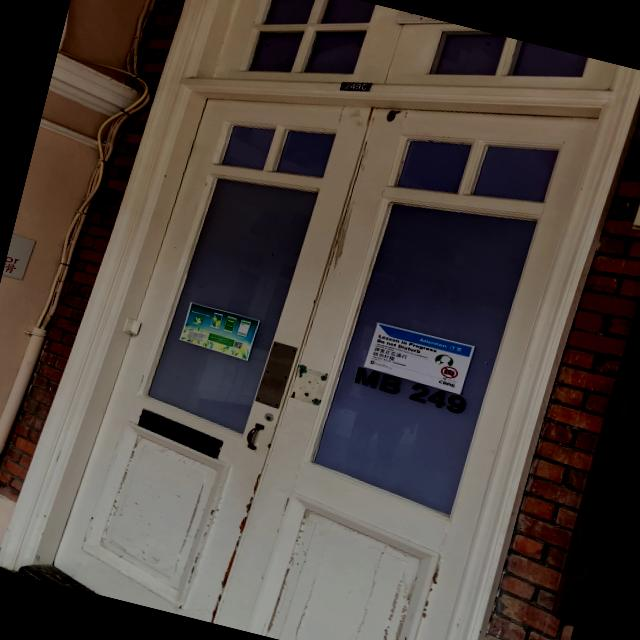room249c: (335, 73, 375, 98)
room249cWindow: (347, 362, 472, 416)
